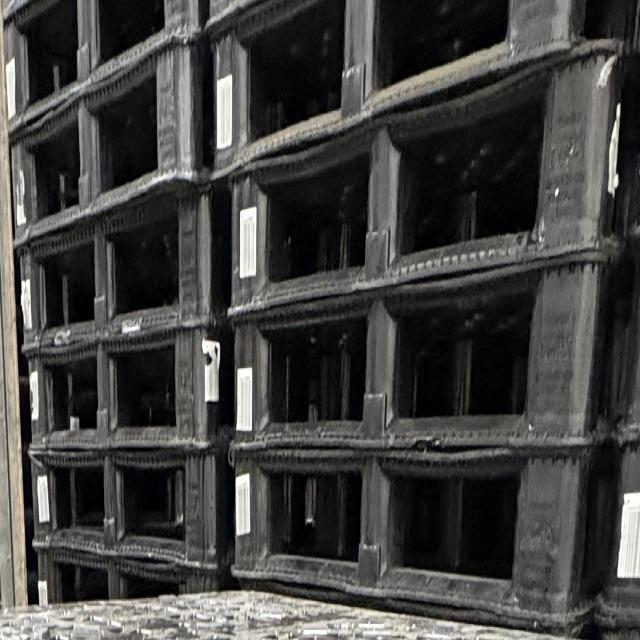igps: (224, 22, 640, 338), (208, 225, 628, 457), (225, 426, 596, 640), (198, 0, 590, 192), (5, 19, 203, 255), (17, 174, 201, 362), (0, 0, 203, 143), (24, 322, 205, 460), (27, 442, 206, 571), (31, 538, 187, 608)
